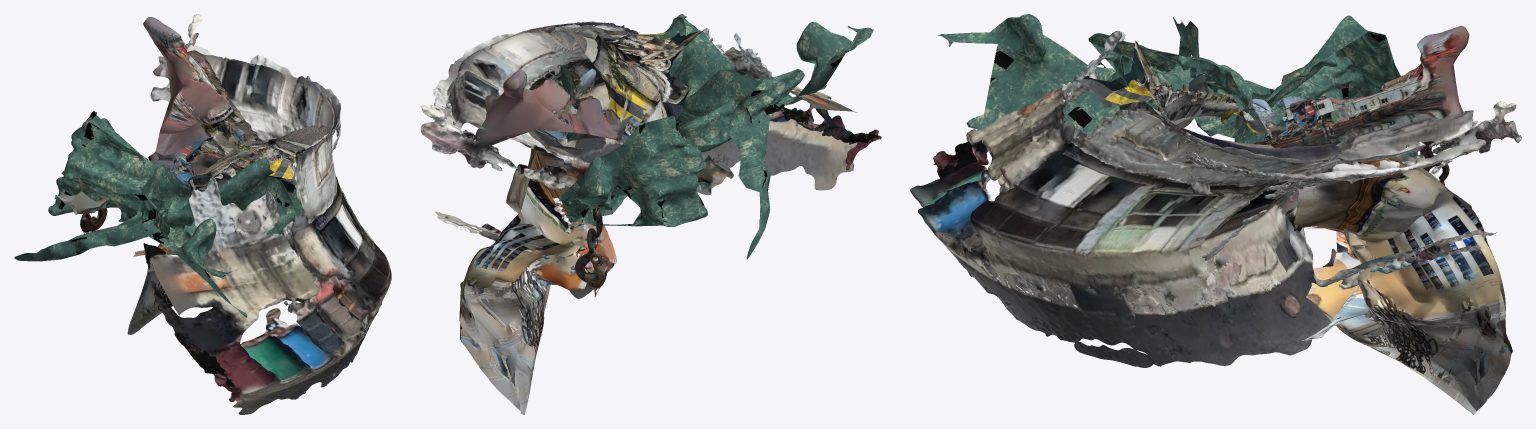
The picture shows the model from 3 angles, left to right: view 1: azimuth 30°, elevation 25°; view 2: azimuth 150°, elevation 25°; view 3: azimuth 270°, elevation 25°; orthographic projection. The views are drawn at different scales.
Visible parts, largest first — view 1: Object.011, Object.022, Object.021, Object.019, Object, Object.030; view 2: Object.011, Object.022, Object, Object.019, Object.021, Object.030; view 3: Object.011, Object, Object.022, Object.021, Object.019.
Part boxes in pixels (left/top/right/bottom): Object.011: left=143, top=14, right=391, bottom=414; Object.022: left=14, top=110, right=303, bottom=317; Object.021: left=143, top=17, right=260, bottom=191; Object.019: left=187, top=125, right=326, bottom=190; Object: left=127, top=152, right=176, bottom=334; Object.030: left=54, top=177, right=109, bottom=233; Object.011: left=420, top=21, right=881, bottom=298; Object.022: left=552, top=17, right=873, bottom=259; Object: left=459, top=145, right=616, bottom=414; Object.019: left=558, top=14, right=704, bottom=123; Object.021: left=475, top=68, right=640, bottom=145; Object.030: left=567, top=155, right=733, bottom=297; Object.011: left=910, top=30, right=1521, bottom=367; Object: left=1294, top=156, right=1512, bottom=414; Object.022: left=938, top=14, right=1425, bottom=156; Object.021: left=1242, top=25, right=1469, bottom=148; Object.019: left=1079, top=40, right=1283, bottom=136.
Size of the model in its own units: 4.42 by 4.56 by 6.39.
Materials: 6 (6 with a texture image).
